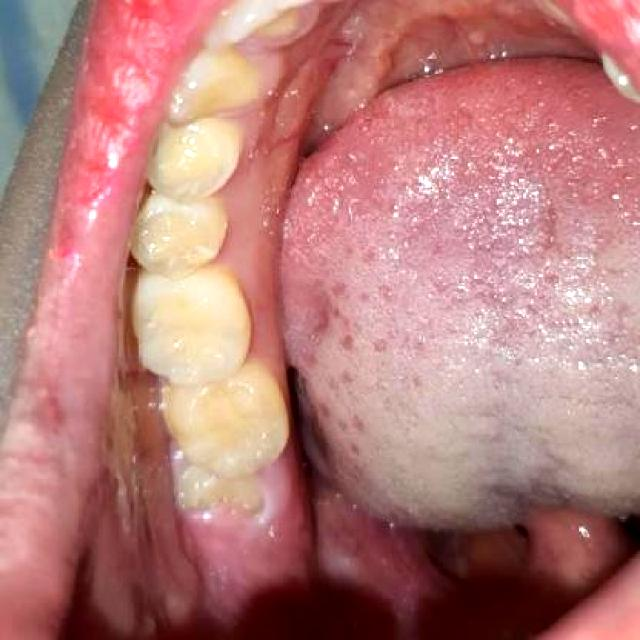Plaque: (183, 458, 308, 575)
